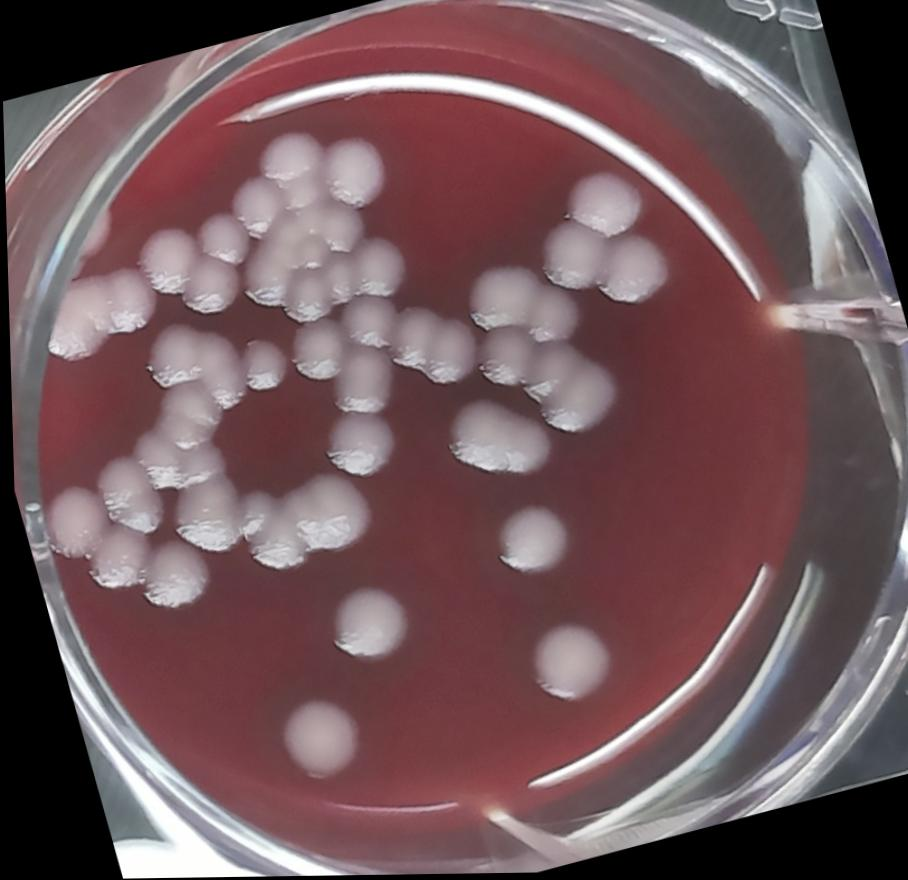bcereus: (471, 489, 584, 601)
